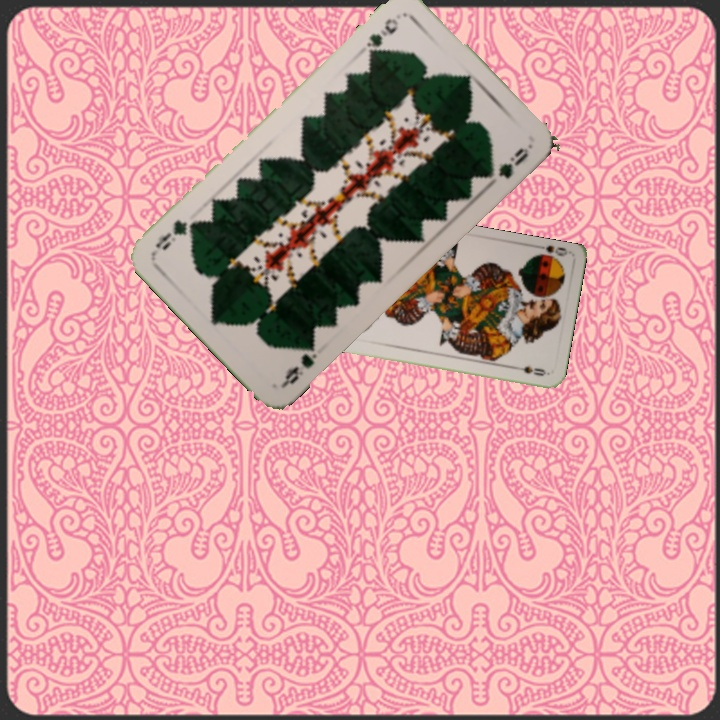G9: (278, 336, 320, 390), (362, 14, 401, 60)
SO: (529, 243, 570, 264)
